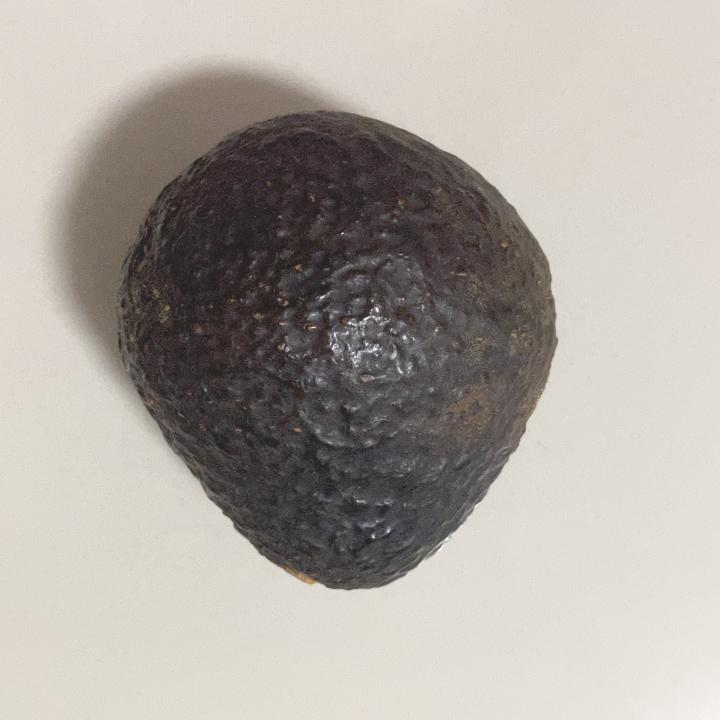Level3: (104, 102, 570, 608)
